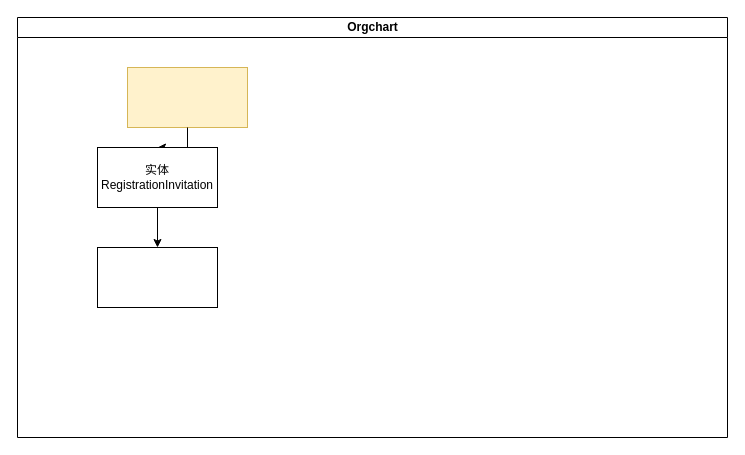
The diagram is 745 pixels wide and 455 high, and some of its shapes have lost their labels. The centre of each missing label's shape, as x and y in pixels:
《聚合根 》 租户: (x=187, y=97)
领域事件 提供租户: (x=157, y=277)
